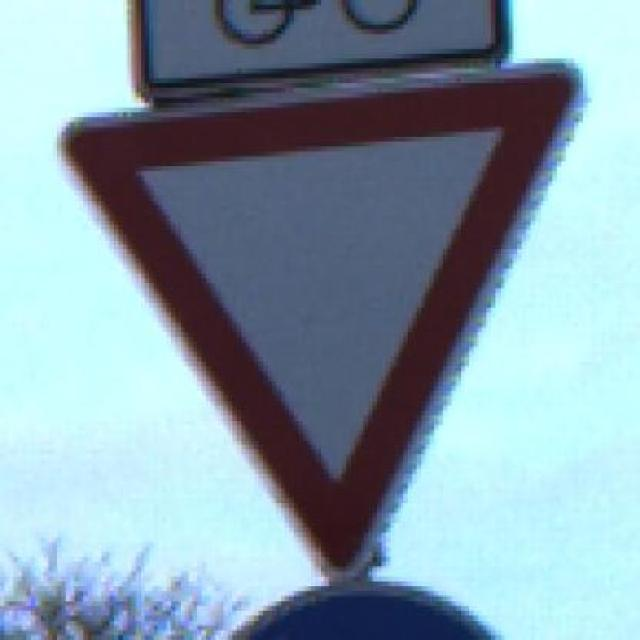Give Way: (52, 49, 628, 576)
